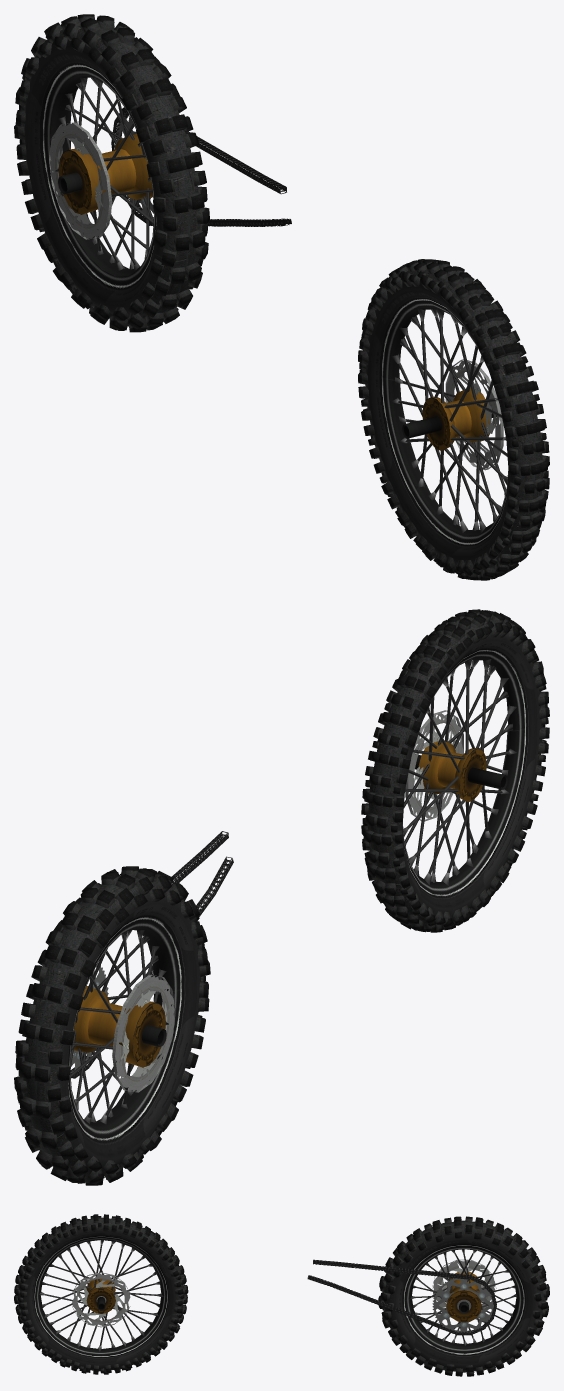
File: Wheels.FBX
3 renders of one model, top to bottom at view 1: azimuth 30°, elevation 25°; view 2: azimuth 150°, elevation 25°; view 3: azimuth 270°, elevation 25°, orthographic. The views are drawn at different scales.
Parts seen in each view (by area): view 1: BikeBackWheel, BikeFrontWheel, BrakeMeshBack, BikeChainBack, BrakeMeshFront; view 2: BikeBackWheel, BikeFrontWheel, BrakeMeshBack, BrakeMeshFront, BikeChainBack; view 3: BikeBackWheel, BikeFrontWheel, BrakeMeshBack, BikeChainBack, BrakeMeshFront.
Part boxes in pixels (box(x1,y1,x2,y2)): BikeBackWheel: box(14, 14, 209, 332); BikeFrontWheel: box(358, 259, 549, 580); BrakeMeshBack: box(49, 112, 154, 239); BikeChainBack: box(111, 107, 291, 226); BrakeMeshFront: box(445, 359, 503, 470); BikeBackWheel: box(14, 866, 210, 1185); BikeFrontWheel: box(361, 609, 549, 932); BrakeMeshBack: box(70, 962, 175, 1092); BrakeMeshFront: box(405, 710, 463, 821); BikeChainBack: box(70, 831, 233, 1078); BikeBackWheel: box(378, 1216, 549, 1376); BikeFrontWheel: box(14, 1214, 188, 1374); BrakeMeshBack: box(432, 1259, 496, 1332); BikeChainBack: box(307, 1259, 496, 1335); BrakeMeshFront: box(72, 1272, 130, 1327).
Size of the model in its own units: 0.2486 by 0.7175 by 2.2.
